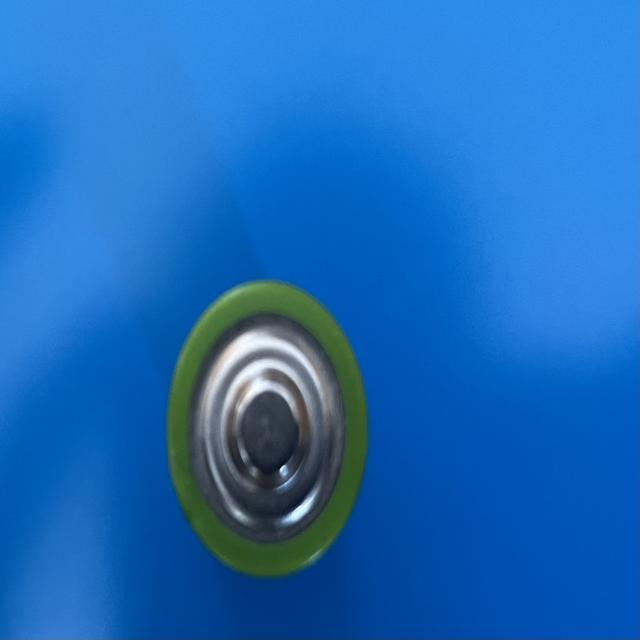hazardous waste: (162, 275, 371, 583)
